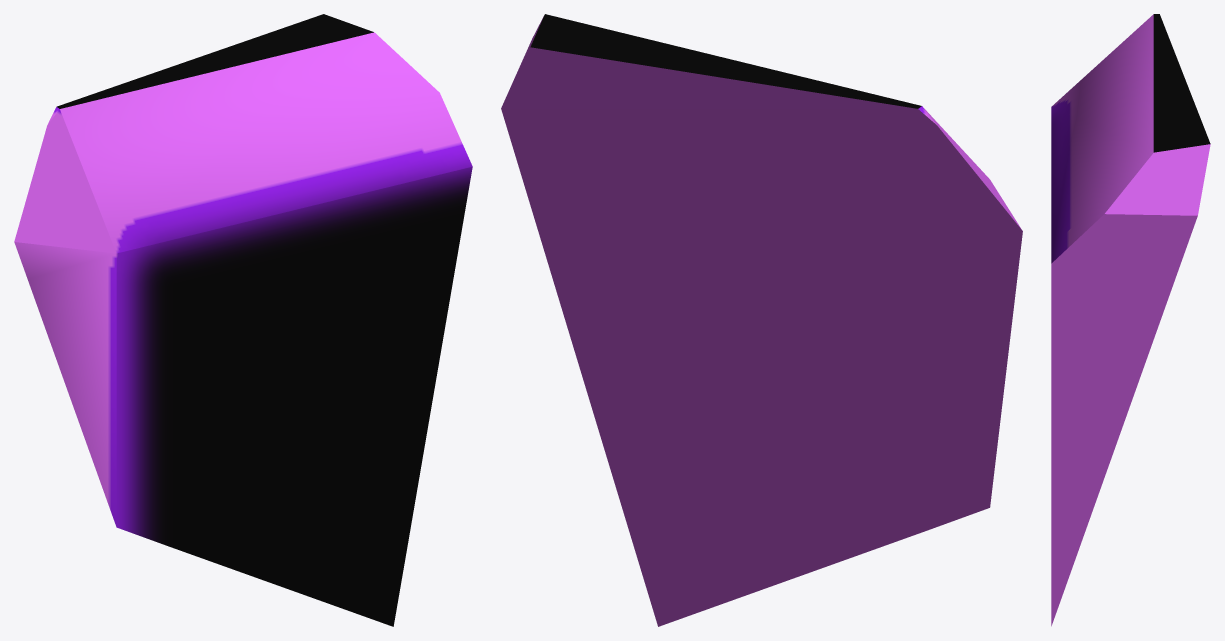
File: blockParticle_19.obj
3 views of the same model, side by side, from view 1: azimuth 30°, elevation 25°; view 2: azimuth 150°, elevation 25°; view 3: azimuth 270°, elevation 25° (orthographic). The views are drawn at different scales.
Parts seen in each view (by area): view 1: 立方体_cell.021; view 2: 立方体_cell.021; view 3: 立方体_cell.021.
Part boxes in pixels (box(x1,y1,x2,y2)): 立方体_cell.021: box(14, 14, 472, 626); 立方体_cell.021: box(501, 14, 1022, 626); 立方体_cell.021: box(1051, 14, 1210, 626).
Bounding box in the file's own units: 0.9083 × 1.12 × 0.3297.
Materials: 2 (2 with a texture image).
